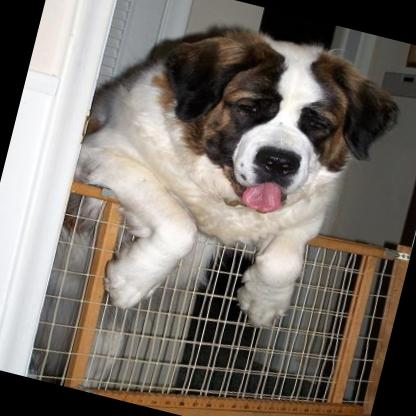Saint_Bernard: (42, 0, 416, 366)
